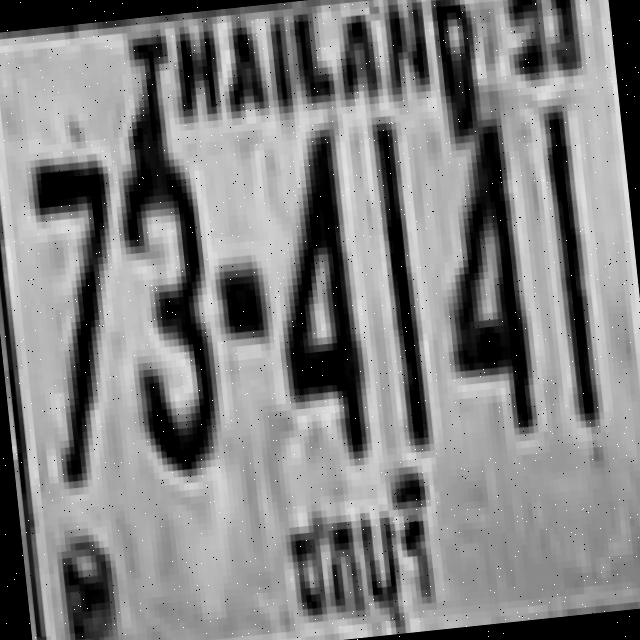1: (368, 116, 421, 392), (537, 100, 588, 364)
3: (110, 140, 220, 470)
4: (256, 121, 368, 458), (422, 96, 533, 434)
7: (24, 152, 132, 468), (24, 153, 128, 414), (24, 153, 121, 359)
Chonburi: (267, 462, 451, 640)
